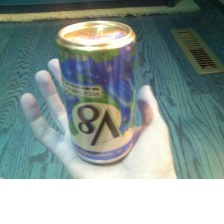can: (53, 17, 138, 164)
